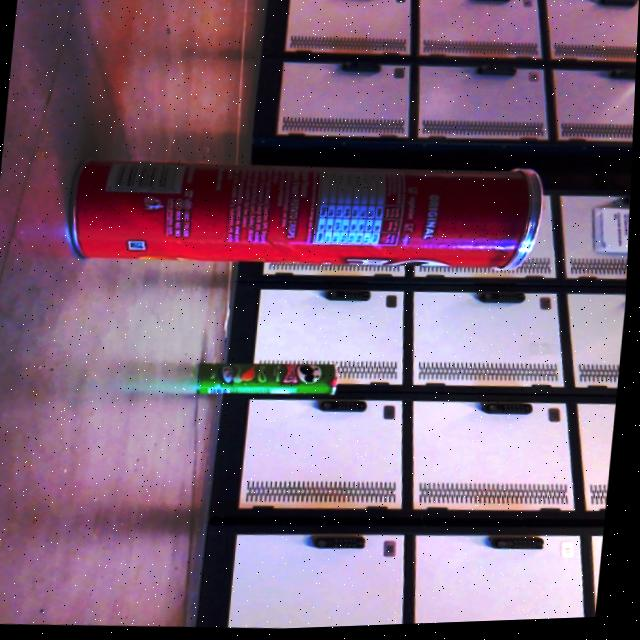greenpringles: (178, 343, 356, 424)
redpringles: (49, 130, 566, 303)
